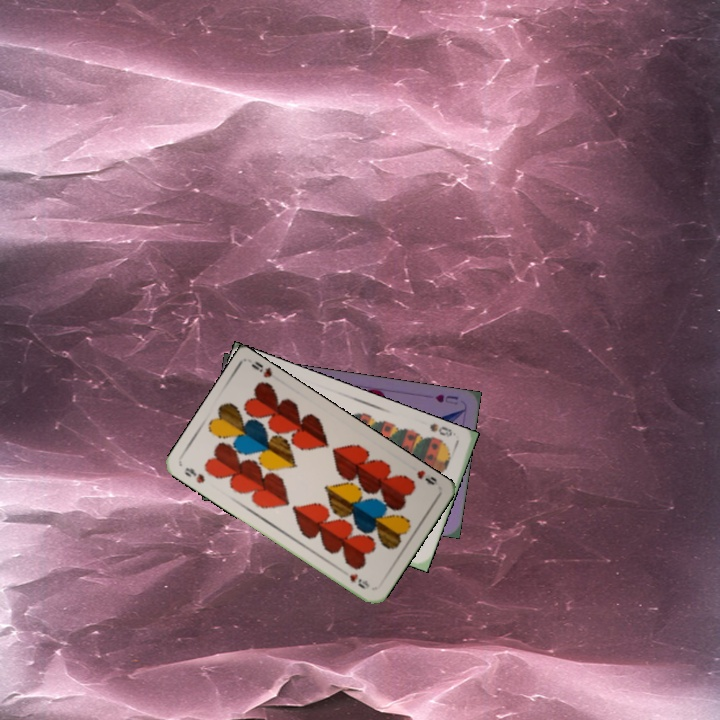H9: (181, 463, 208, 486), (413, 466, 440, 488)
HU: (431, 390, 461, 407)
S8: (426, 419, 455, 440)
